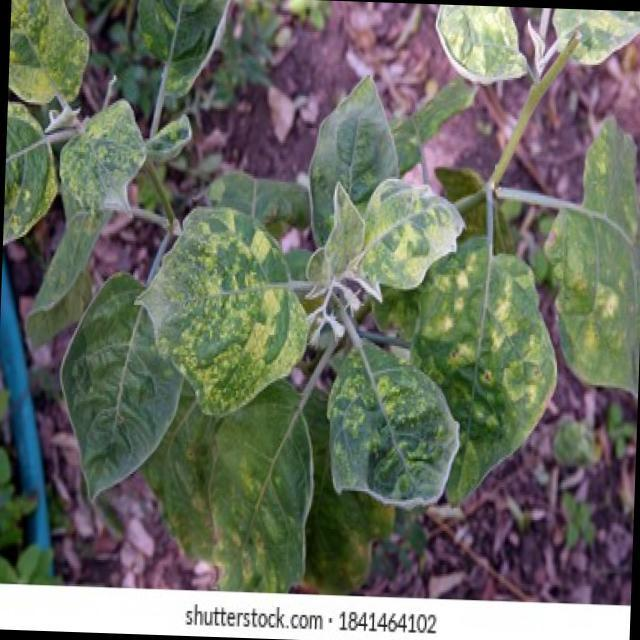Mosaic Virus: (146, 208, 292, 391), (424, 262, 552, 430), (323, 360, 439, 488), (8, 0, 89, 99), (366, 174, 444, 274), (61, 104, 142, 200), (3, 112, 55, 238)
